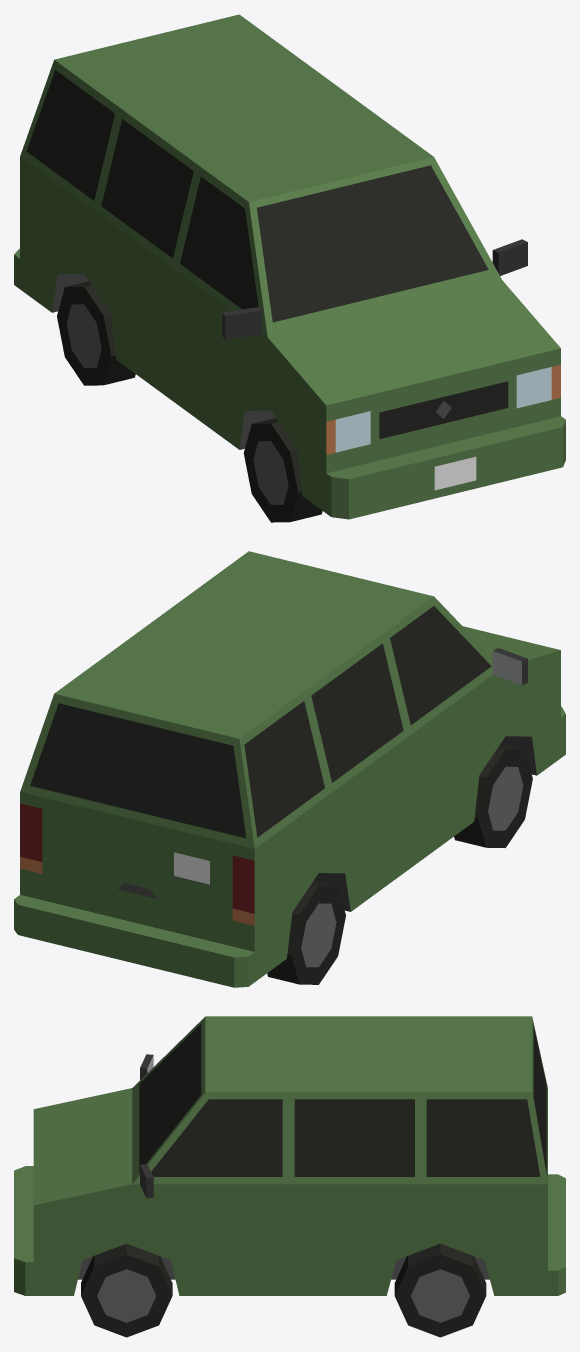
The model's file is Veh_Minivan_Green.obj.
3 renders of one model, top to bottom at view 1: azimuth 30°, elevation 25°; view 2: azimuth 150°, elevation 25°; view 3: azimuth 270°, elevation 25°, orthographic. The views are drawn at different scales.
Size of the model in its own units: 1.31 by 1.16 by 2.46.
